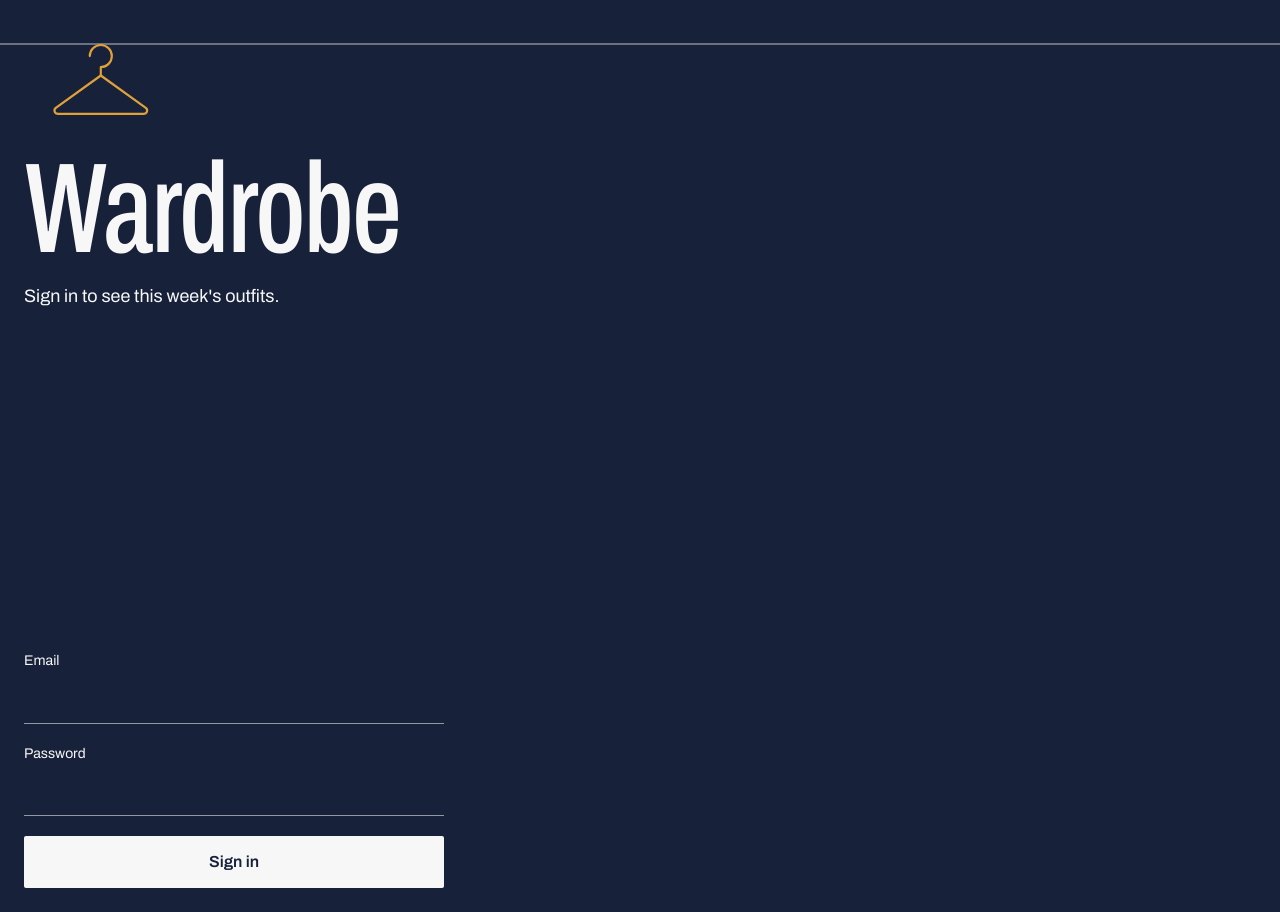
Test: when signed out › explains too many attempts
Type "test@example.test" into the field labelled "Email". click: (234, 700)
box: x1=24 y1=676 x2=444 y2=724
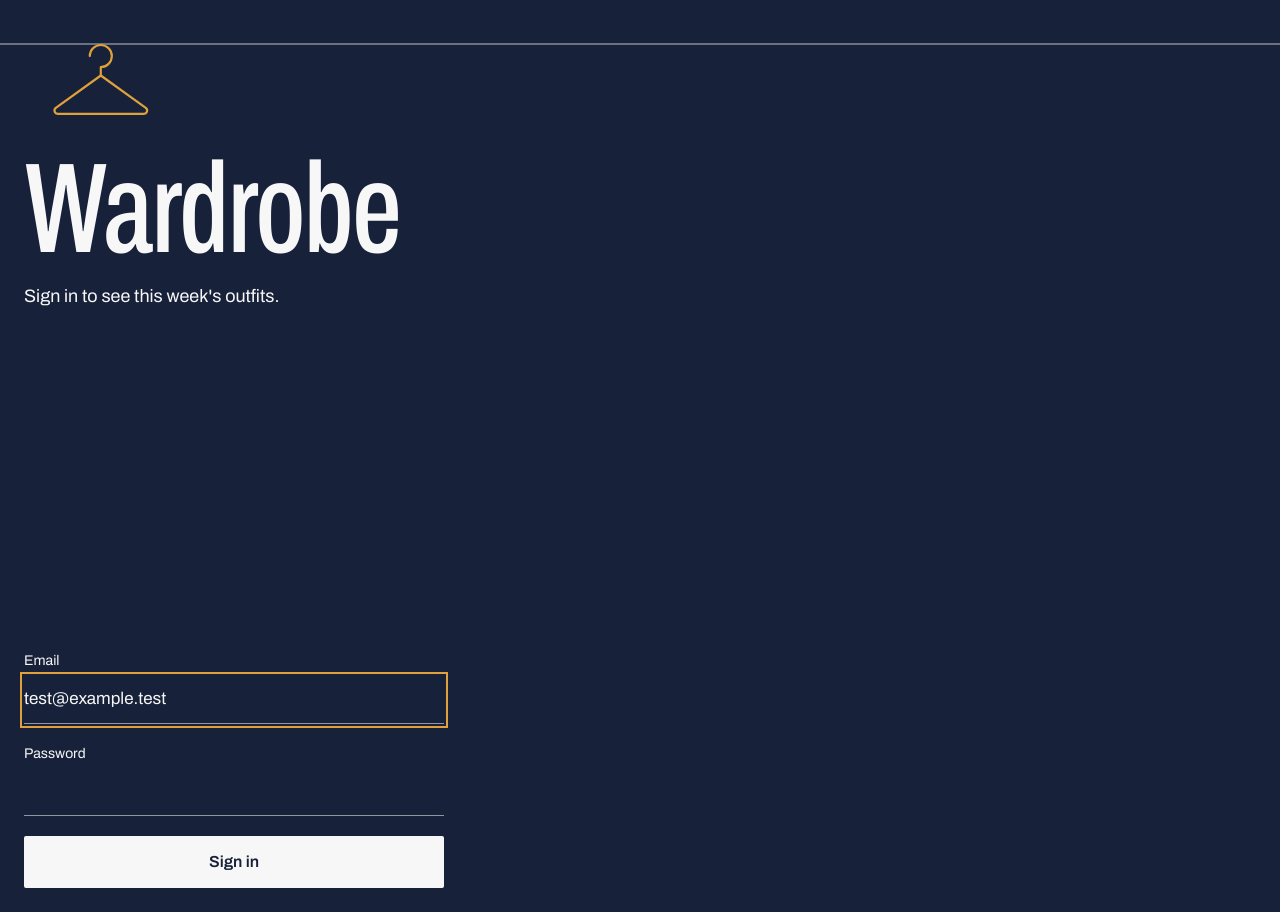
Type "test-value" into the password field labelled "Password". click: (234, 792)
box: x1=24 y1=768 x2=444 y2=816
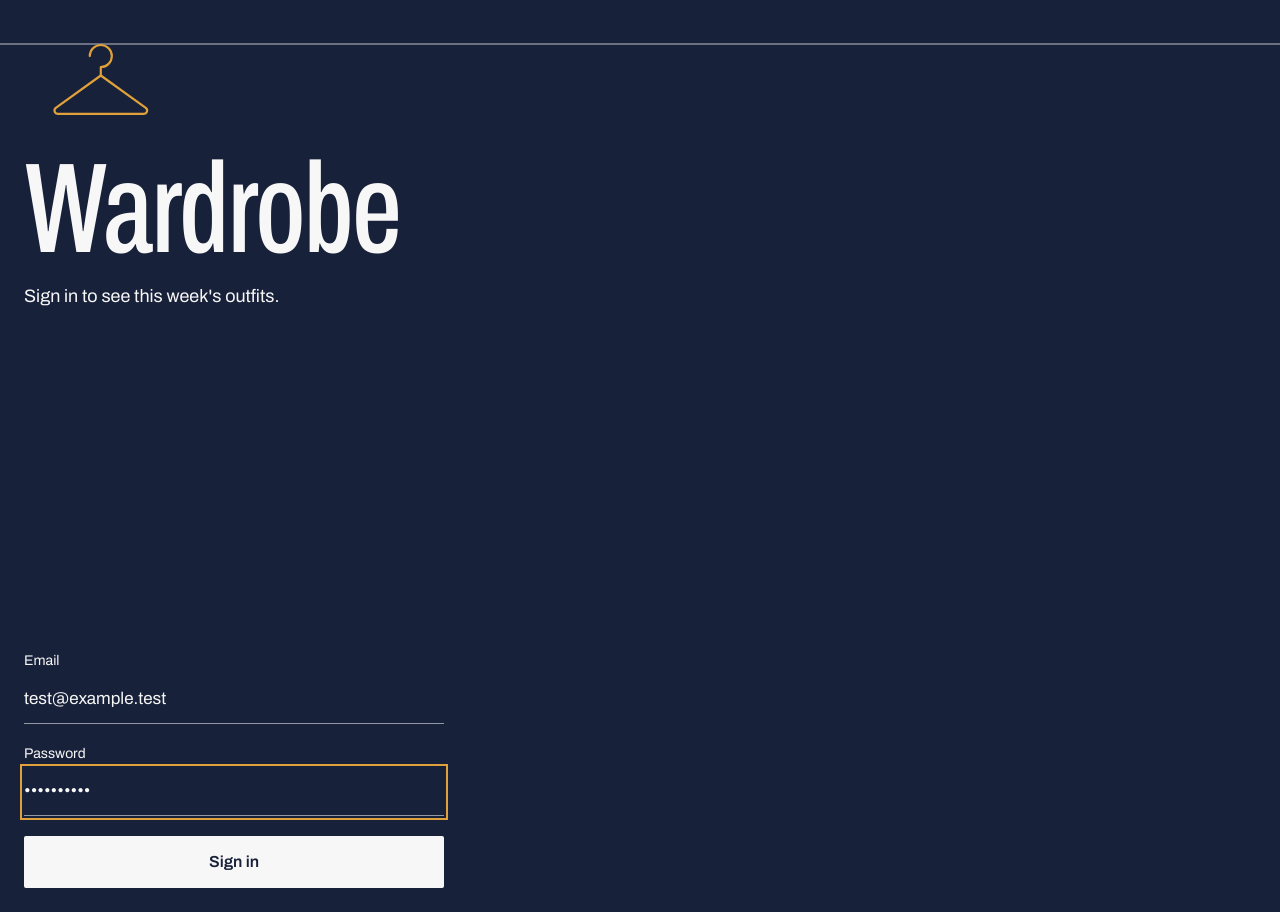
Click the button "Sign in". click: (234, 862)
box: x1=24 y1=836 x2=444 y2=888
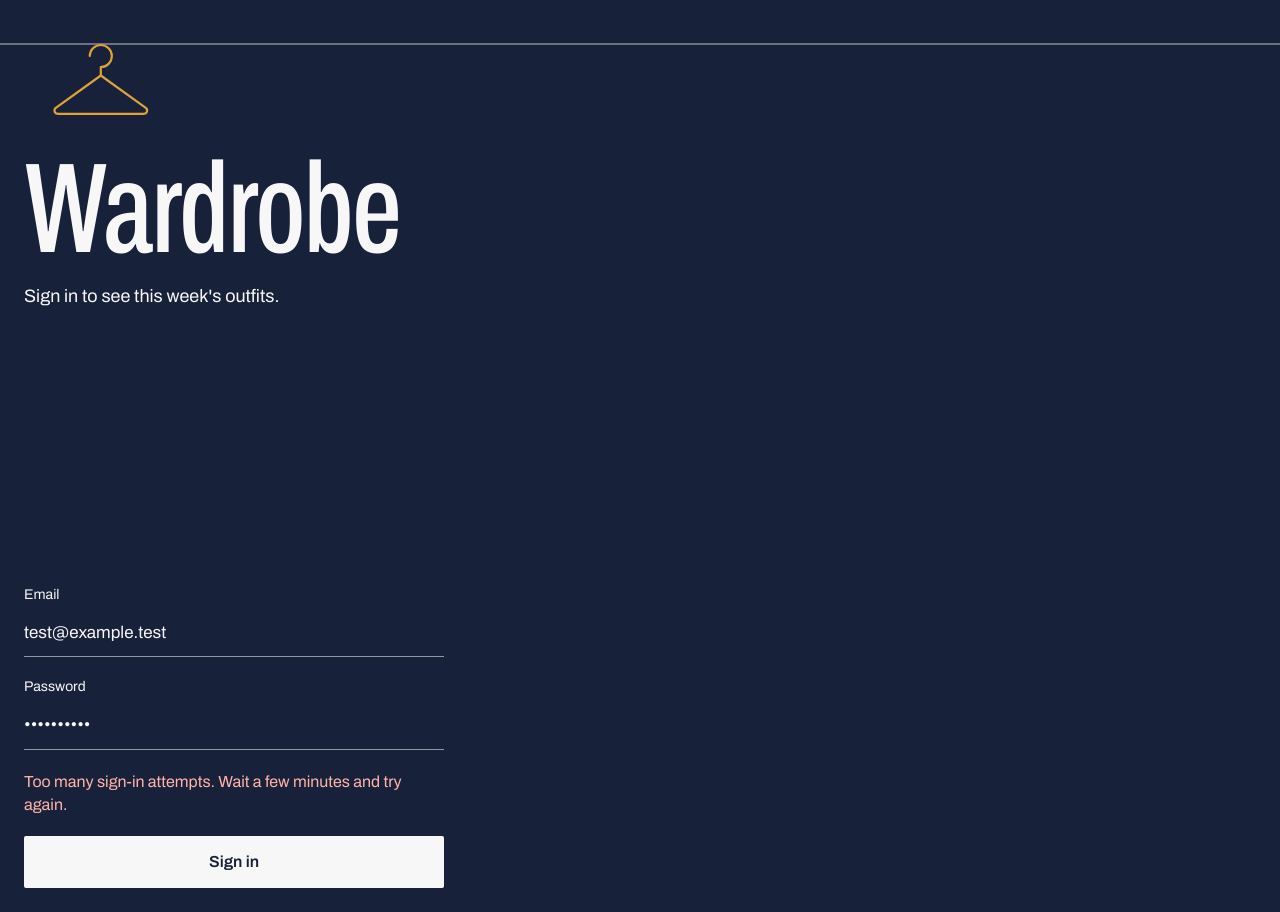
expect the message shows "Too many": met, box x1=24 y1=773 x2=402 y2=813
